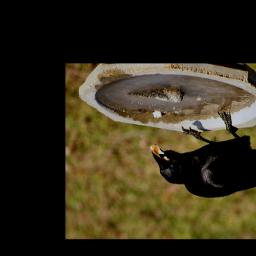Crow: (149, 110, 256, 199)
